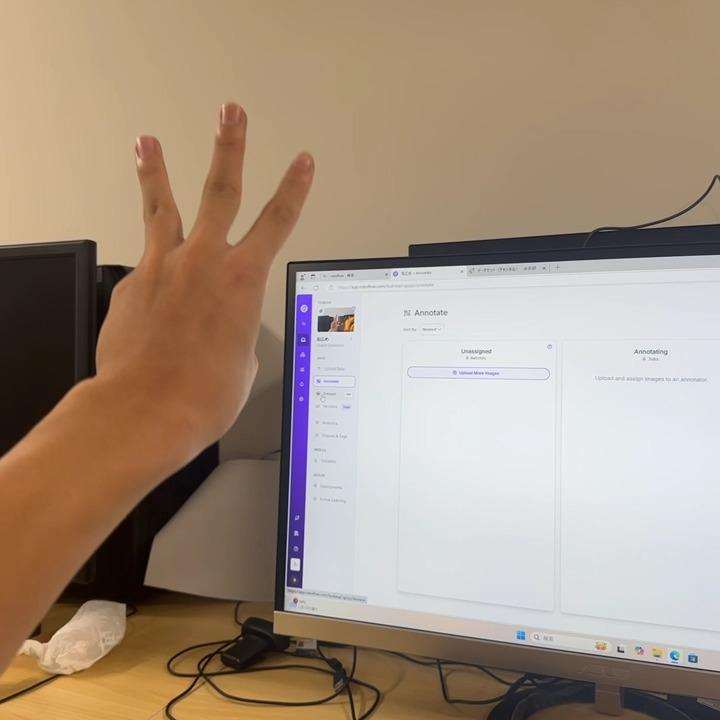without_gloves: (15, 25, 358, 464)
